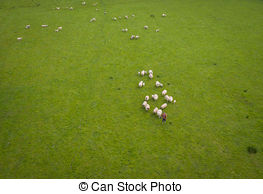sheep: (137, 80, 147, 88), (157, 108, 164, 119), (154, 80, 165, 87), (166, 93, 174, 102), (54, 26, 64, 33), (39, 23, 50, 29), (143, 101, 151, 109), (159, 102, 166, 111), (151, 94, 159, 101), (142, 23, 150, 30), (144, 92, 150, 101), (131, 34, 140, 40), (24, 23, 33, 29), (161, 11, 169, 17), (153, 106, 159, 113), (148, 72, 154, 79), (138, 69, 145, 75), (161, 90, 167, 96), (122, 27, 129, 32)
